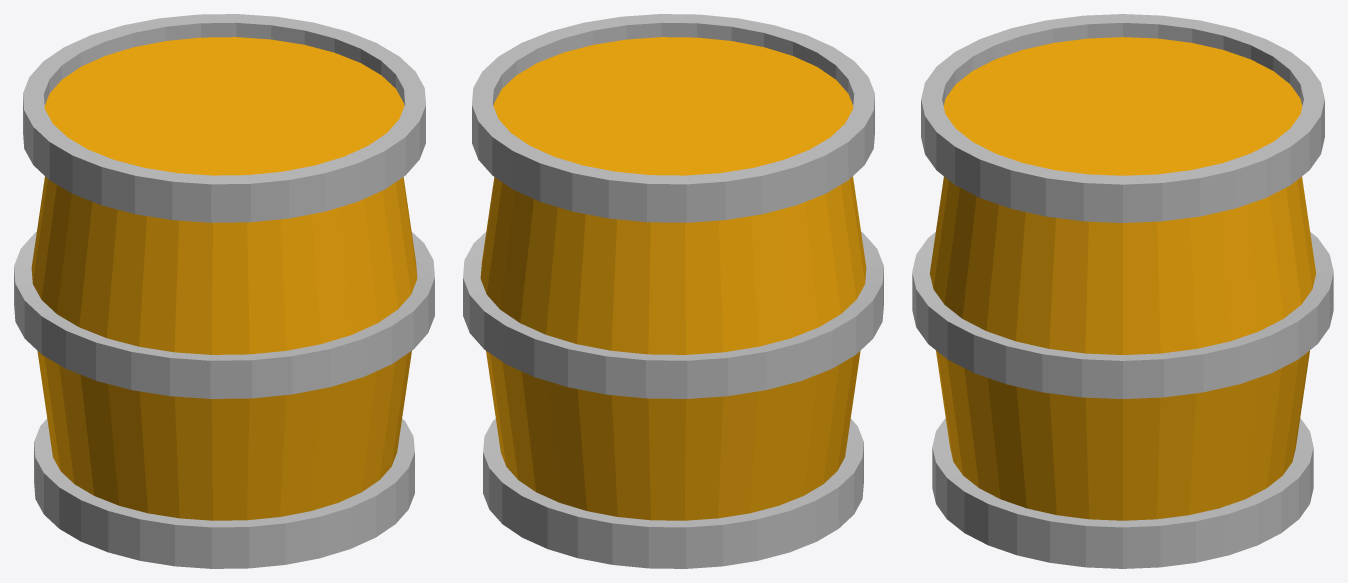
Rendered from Barrel.fbx.
3 renders of one model, left to right at view 1: azimuth 30°, elevation 25°; view 2: azimuth 150°, elevation 25°; view 3: azimuth 270°, elevation 25°, orthographic.
Parts seen in each view (by area): view 1: Cylinder; view 2: Cylinder; view 3: Cylinder.
Part boxes in pixels (x1,y1,x2,y2): Cylinder: (14,14,434,568); Cylinder: (463,14,883,568); Cylinder: (912,14,1333,568).
Bounding box in the file's own units: 2.44 × 2.48 × 2.44.
